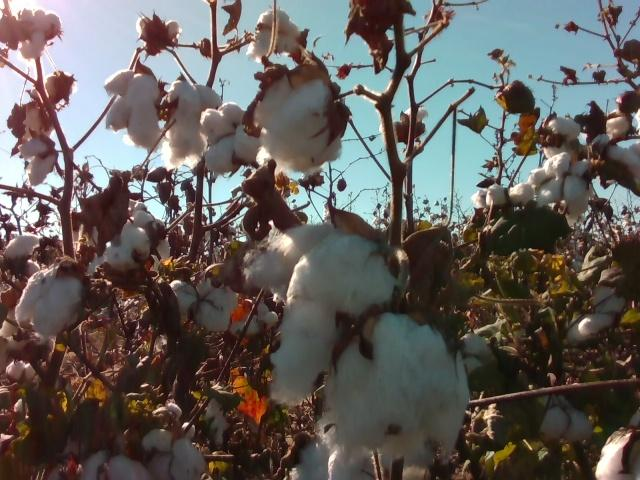cotton_ready: (243, 220, 404, 405), (317, 310, 470, 466), (254, 72, 344, 177), (15, 264, 90, 339), (166, 78, 223, 170), (104, 69, 163, 152), (199, 100, 263, 175), (170, 270, 240, 337), (530, 150, 599, 216), (101, 207, 164, 273), (567, 282, 629, 344), (288, 437, 371, 480), (145, 425, 208, 480), (249, 10, 306, 61), (536, 398, 595, 446), (15, 5, 64, 60), (595, 427, 640, 480), (79, 451, 154, 480), (19, 134, 58, 188), (543, 114, 582, 165), (16, 101, 55, 144), (612, 141, 640, 194), (30, 72, 74, 104)
